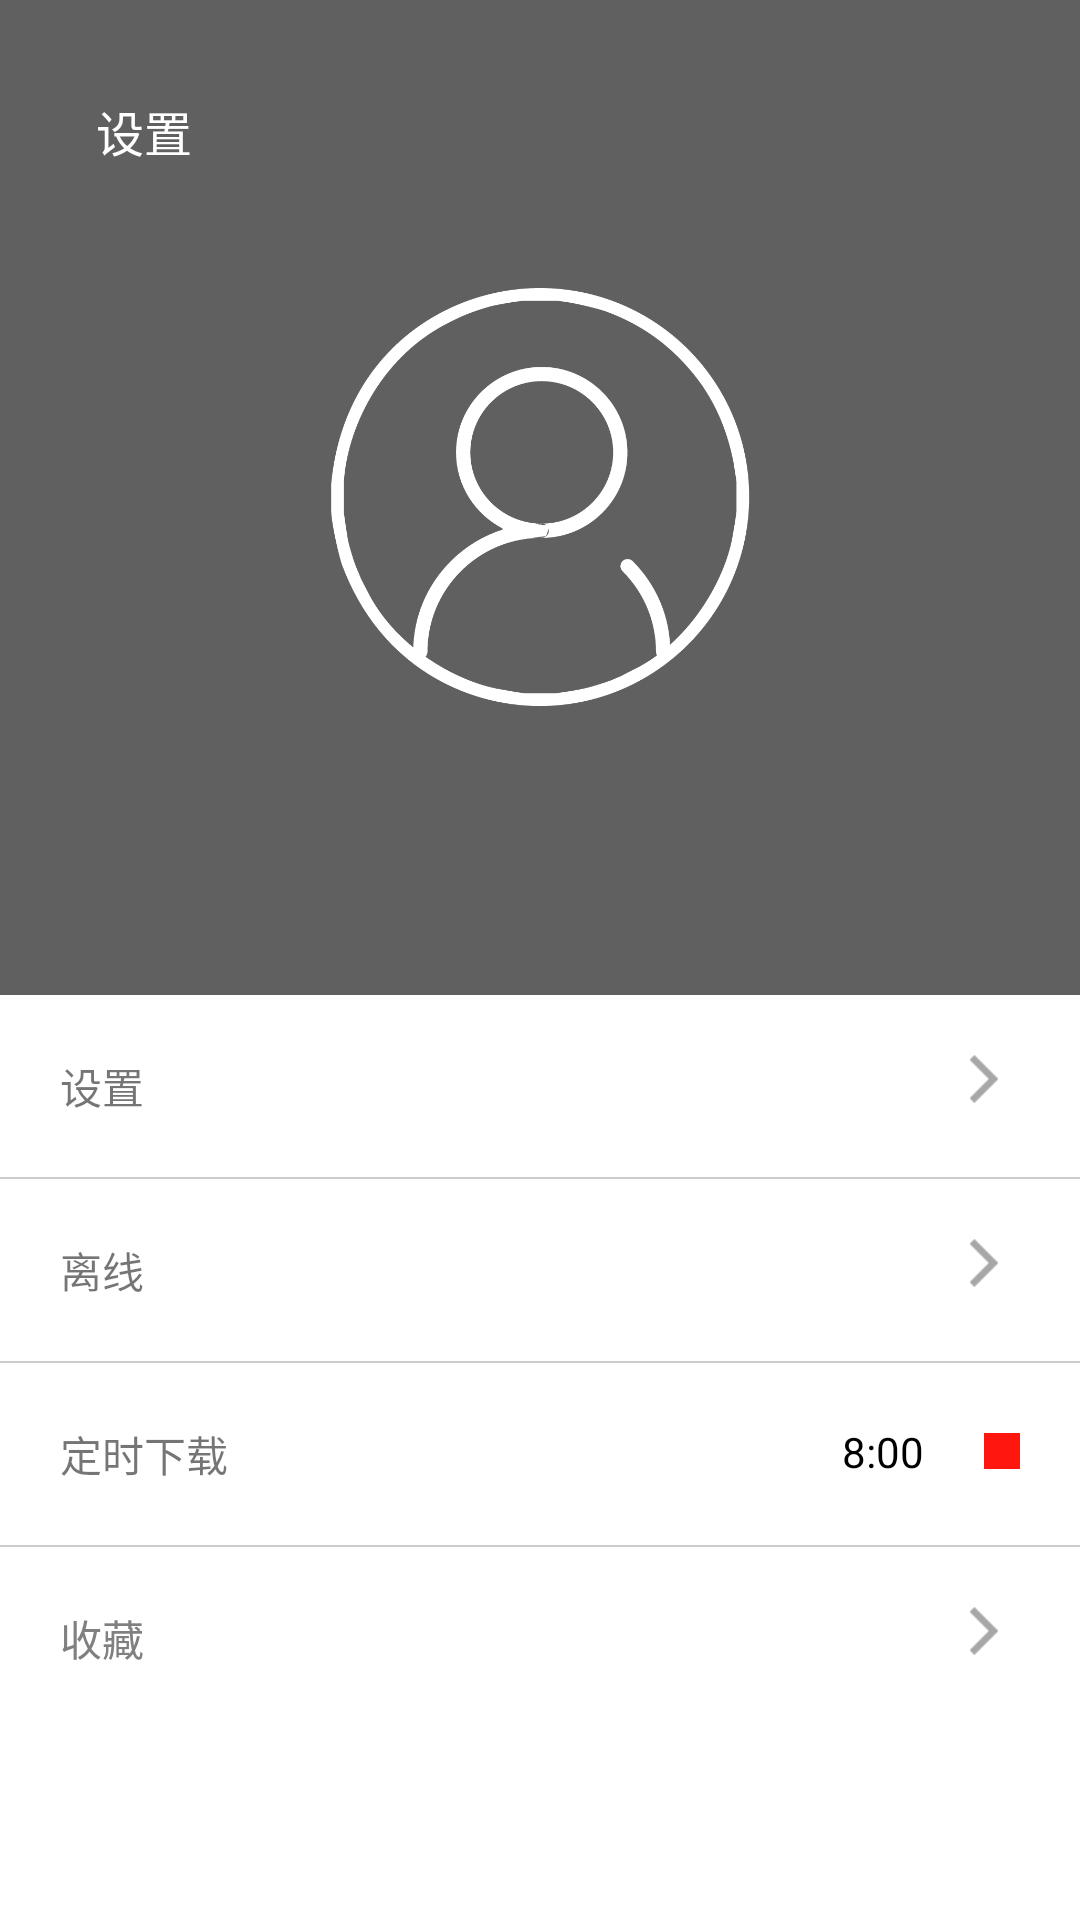

Icons on this 1080px x 1920px Android screen, each with the point to tap as (x=x, y=y):
enter: (x=984, y=1079), (x=984, y=1263), (x=984, y=1631)
